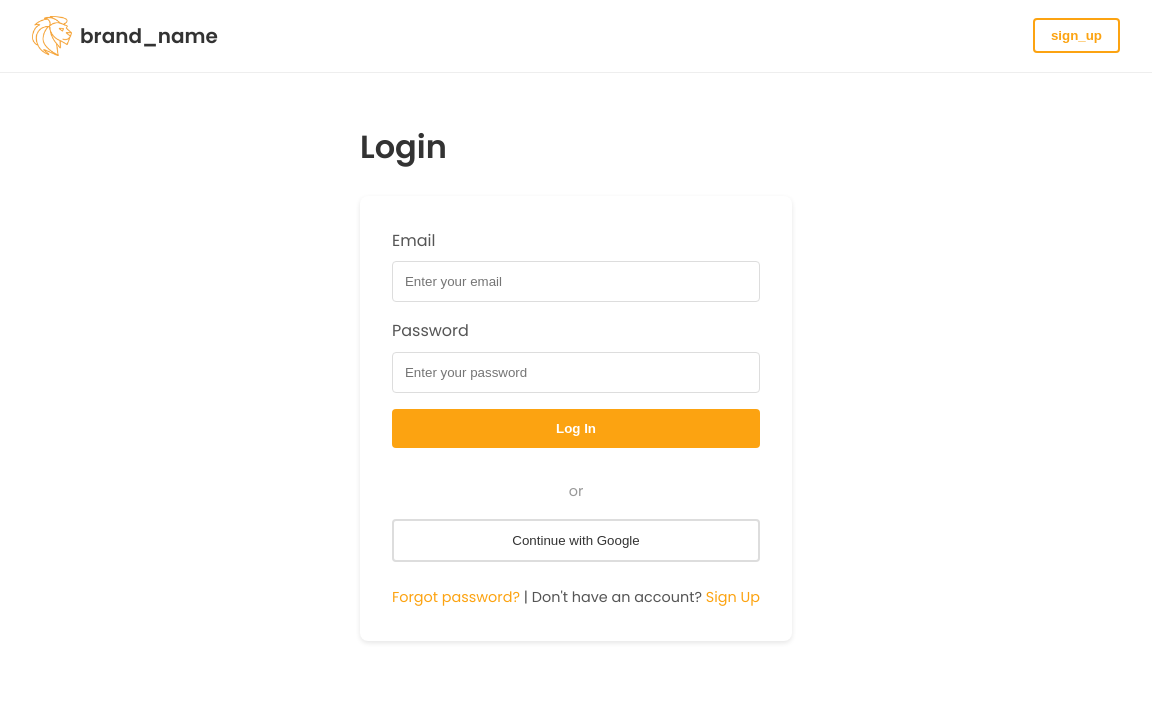
it: <LoginPage /> › shows error when email login fails
The image size is (1152, 720).
Type "bad@user.com" into the field labelled "Email" at (576, 282), box [392,262,760,302]
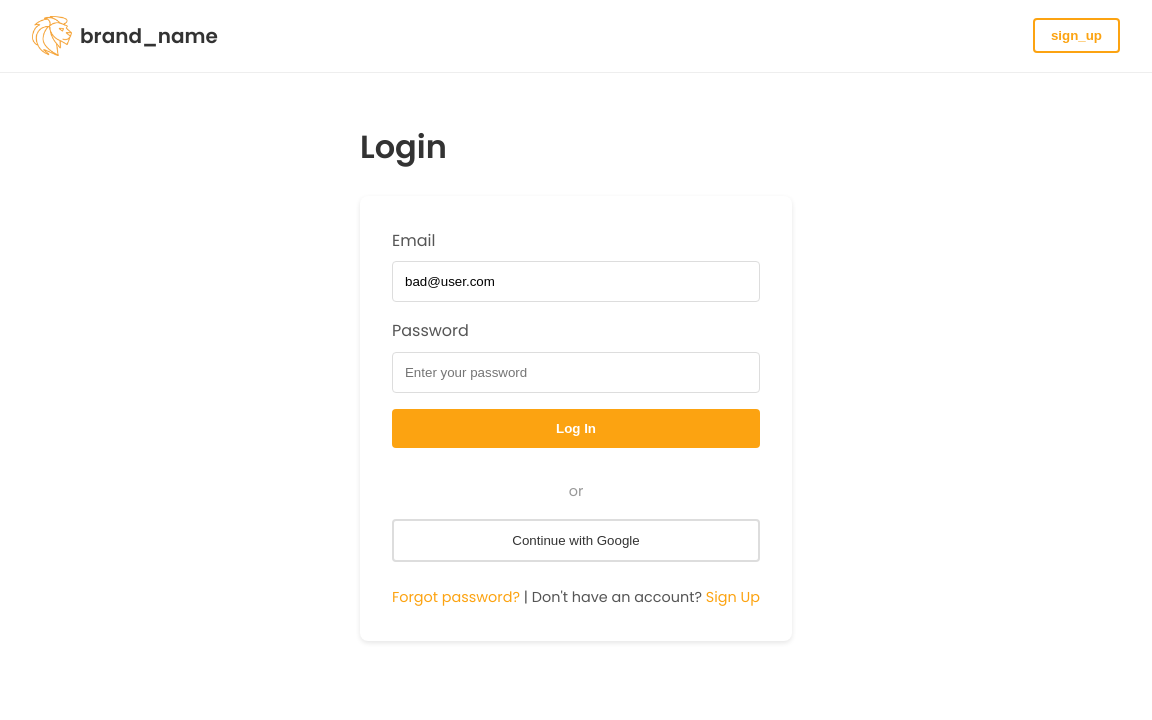
Type "wrongpass" into the password field labelled "Password" at (576, 373), box [392,352,760,393]
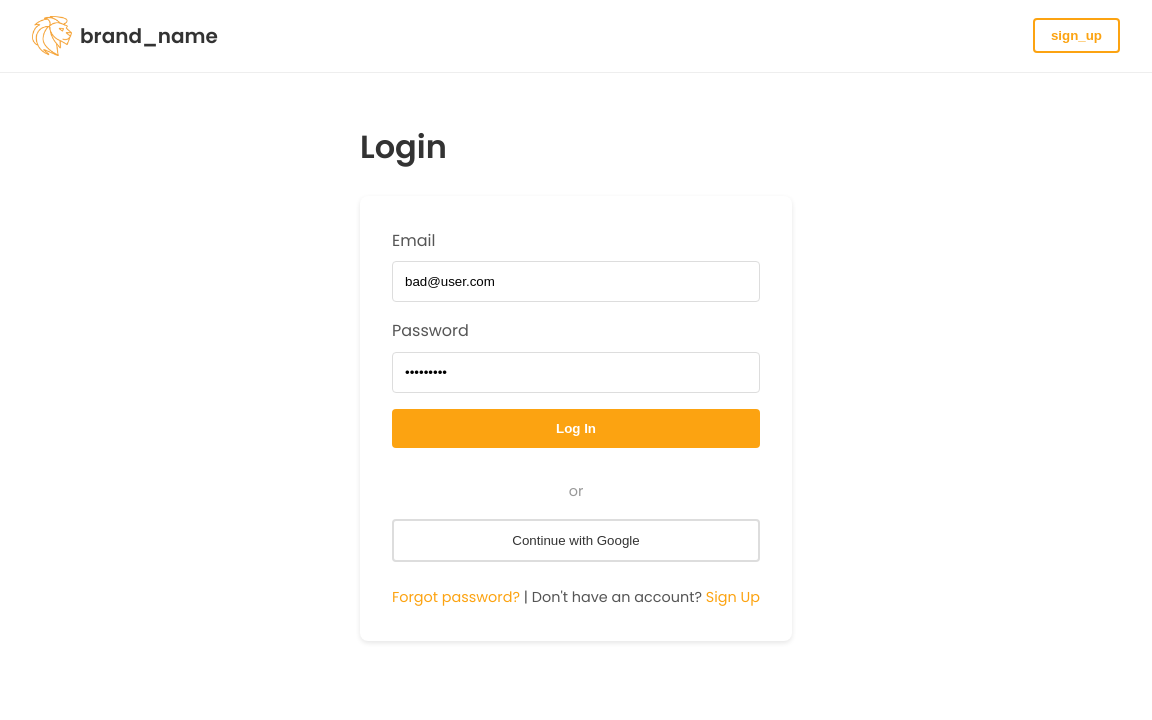
Click the button "Log In" at (576, 429), box [392,409,760,448]
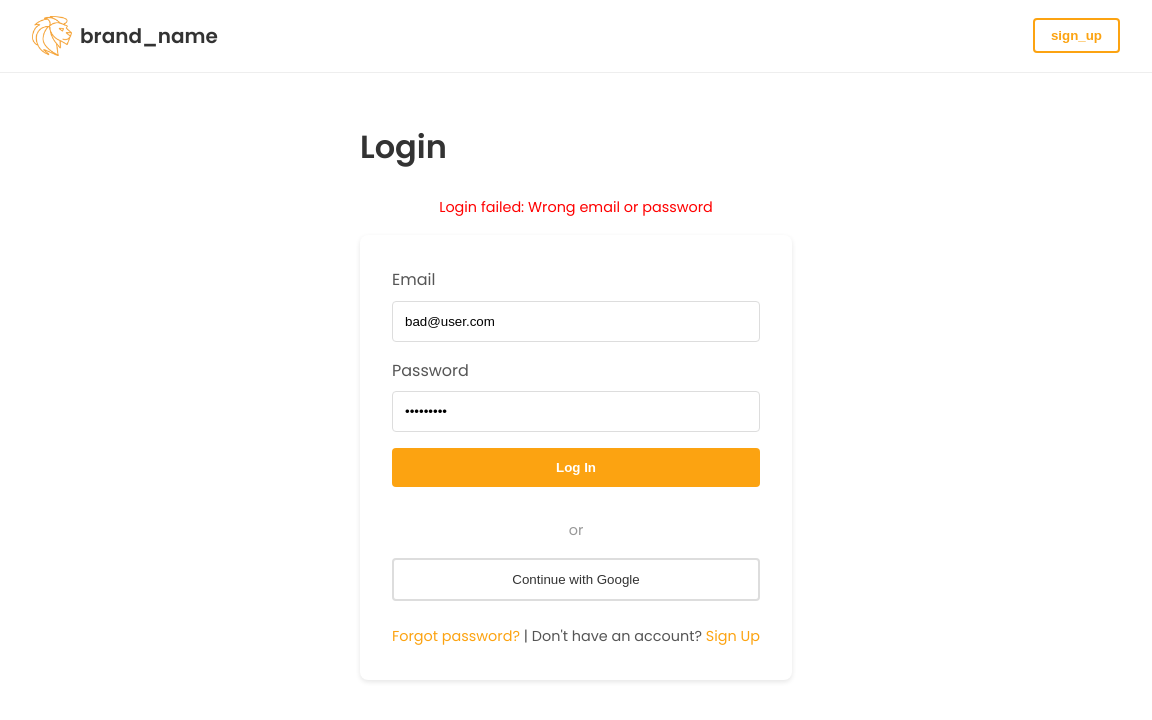
Result: the text "Login failed: Wrong email or password" is shown at [439,197,713,217]
